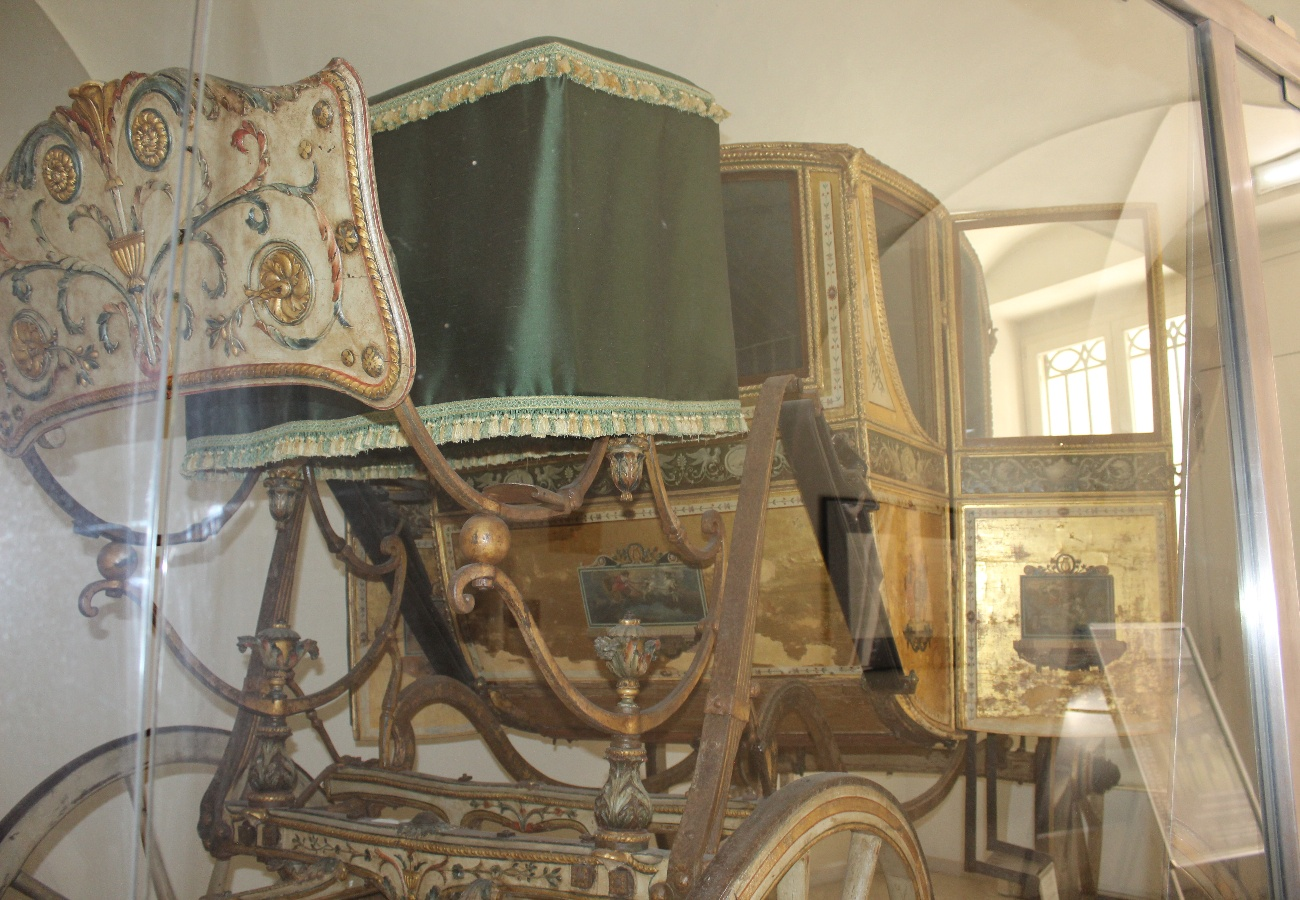Berlina Mosca: (1, 37, 1193, 900)
